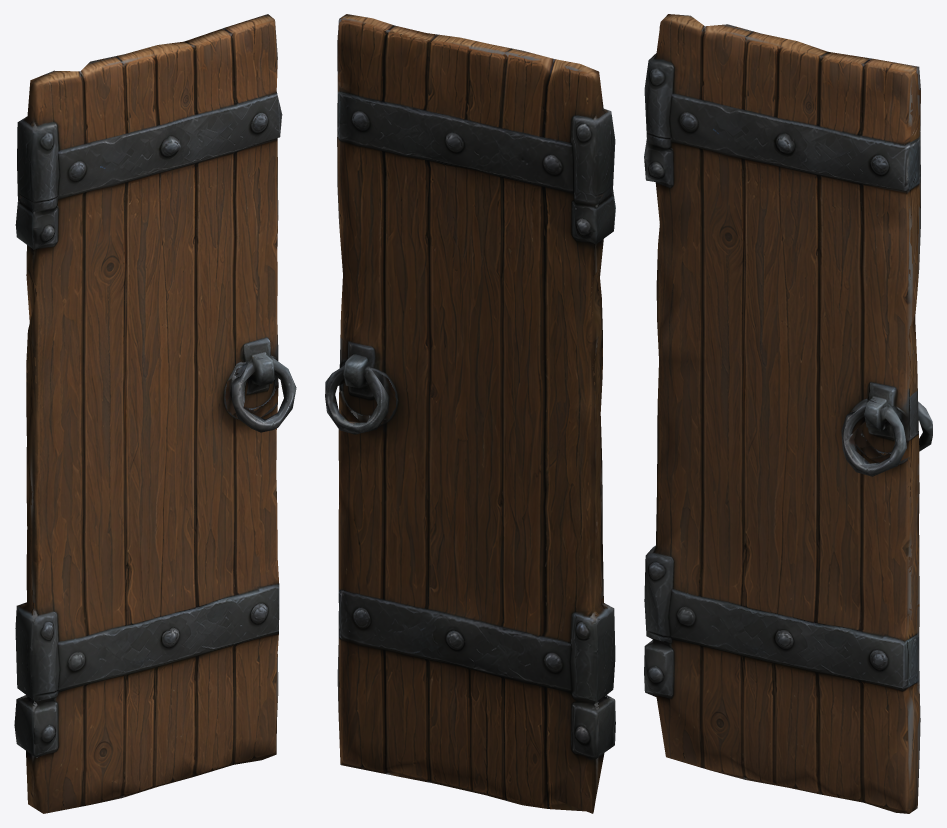
File: Prop_DoorLeaf.fbx
3 views of the same model, side by side, from view 1: azimuth 30°, elevation 25°; view 2: azimuth 150°, elevation 25°; view 3: azimuth 330°, elevation 25° (orthographic).
Visible parts, largest first — view 1: texture_mapping; view 2: texture_mapping; view 3: texture_mapping.
Boxes of the visible parts, bbox=[...] form: texture_mapping: bbox=[14, 14, 296, 813]; texture_mapping: bbox=[325, 14, 615, 813]; texture_mapping: bbox=[644, 14, 932, 813].
Size of the model in its own units: 0.3748 by 0.1052 by 1.
Materials: 1 (1 with a texture image).
